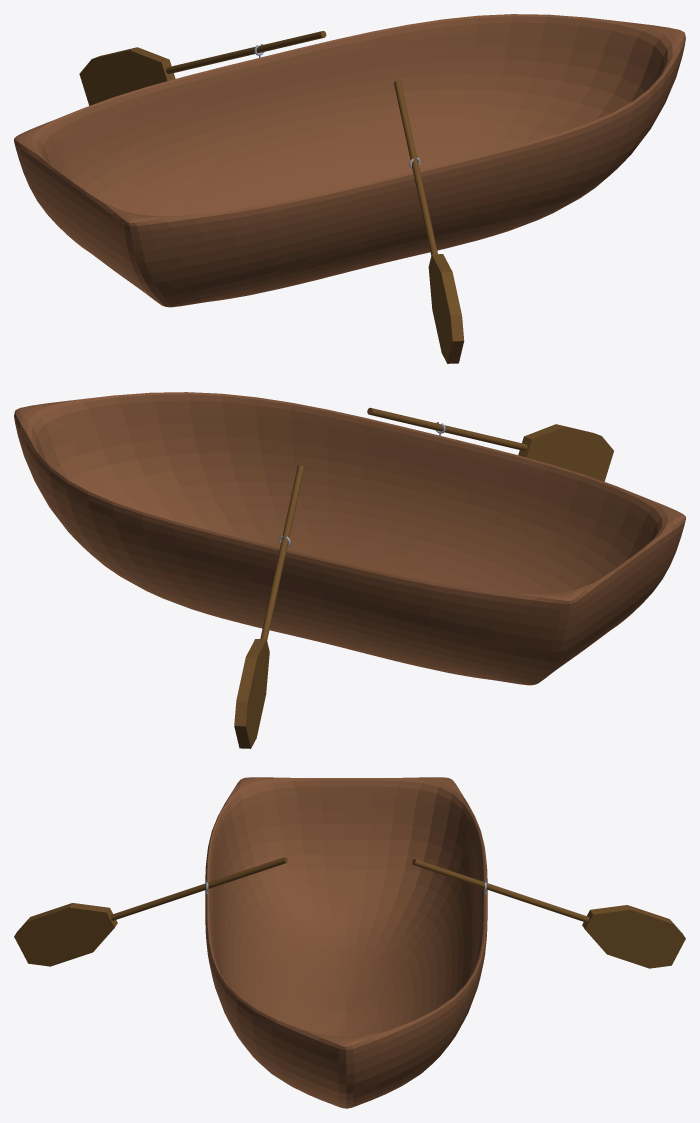
The model's file is Boat.fbx.
3 views of the same model, one above another, from view 1: azimuth 30°, elevation 25°; view 2: azimuth 150°, elevation 25°; view 3: azimuth 270°, elevation 25° (orthographic). The views are drawn at different scales.
Parts seen in each view (by area): view 1: Sphere, Cylinder.002, Cylinder.003; view 2: Sphere, Cylinder.003, Cylinder.002; view 3: Sphere, Cylinder.002, Cylinder.003.
Boxes of the visible parts, x1,y1,x2,y2 form: Sphere: [14, 14, 685, 307]; Cylinder.002: [79, 31, 326, 105]; Cylinder.003: [394, 80, 464, 363]; Sphere: [14, 392, 685, 685]; Cylinder.003: [367, 407, 613, 481]; Cylinder.002: [234, 465, 304, 748]; Sphere: [205, 777, 487, 1108]; Cylinder.002: [412, 859, 685, 968]; Cylinder.003: [14, 857, 287, 966].
Bounding box in the file's own units: 284 × 86.43 × 299.
